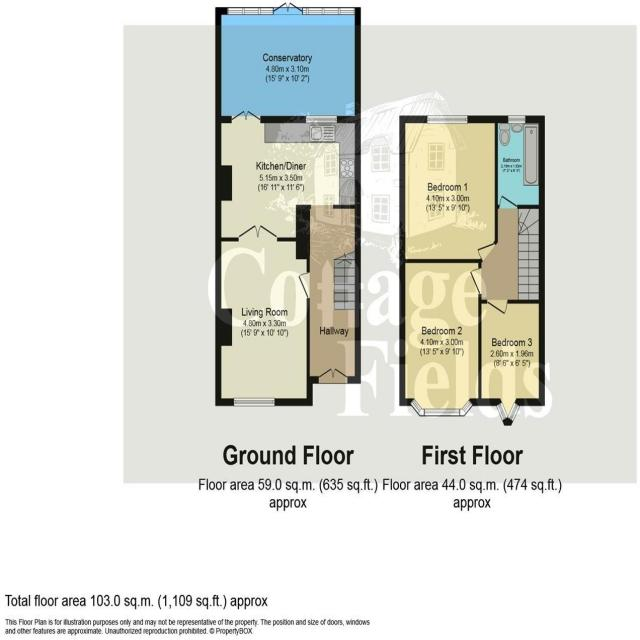DOOR: (476, 240, 498, 260), (296, 271, 311, 300), (486, 298, 509, 316), (469, 266, 482, 295), (498, 194, 519, 210)
DOUBLE DOOR: (237, 224, 277, 242), (315, 367, 350, 383), (230, 109, 261, 123)
ROOM: (215, 109, 361, 243), (215, 222, 313, 405), (399, 114, 498, 263), (399, 258, 482, 416), (478, 299, 545, 426)
WINDOW: (409, 397, 474, 417), (426, 114, 469, 125), (233, 396, 276, 407), (304, 113, 338, 125), (495, 401, 508, 422), (507, 114, 527, 124)
